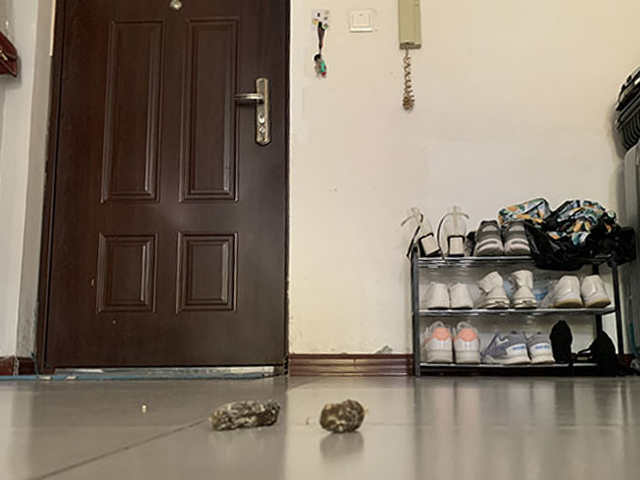carpet: (1, 366, 287, 382)
feces: (208, 397, 281, 432), (318, 397, 366, 435)
